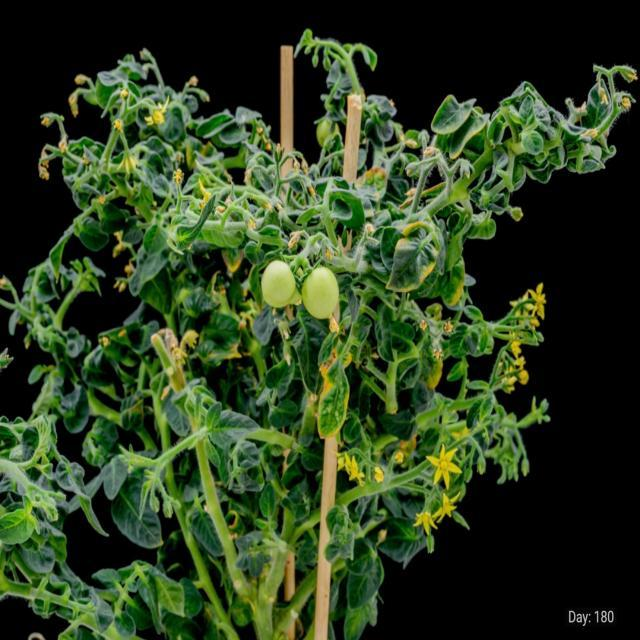tomato: (0, 32, 640, 640)
